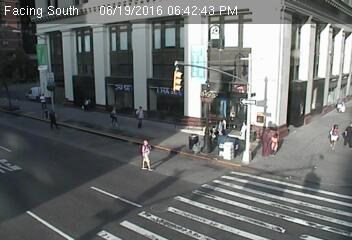neg: (11, 36, 45, 82), (270, 56, 294, 88), (233, 54, 254, 83), (305, 51, 325, 78), (50, 43, 68, 68), (170, 111, 188, 135), (188, 71, 206, 95), (117, 44, 133, 66)
pos: (130, 137, 156, 173), (258, 125, 284, 160), (316, 120, 339, 149), (233, 112, 253, 140), (337, 117, 351, 151), (108, 105, 127, 130), (130, 105, 149, 129), (214, 115, 232, 139), (43, 107, 58, 127), (36, 88, 50, 107)
